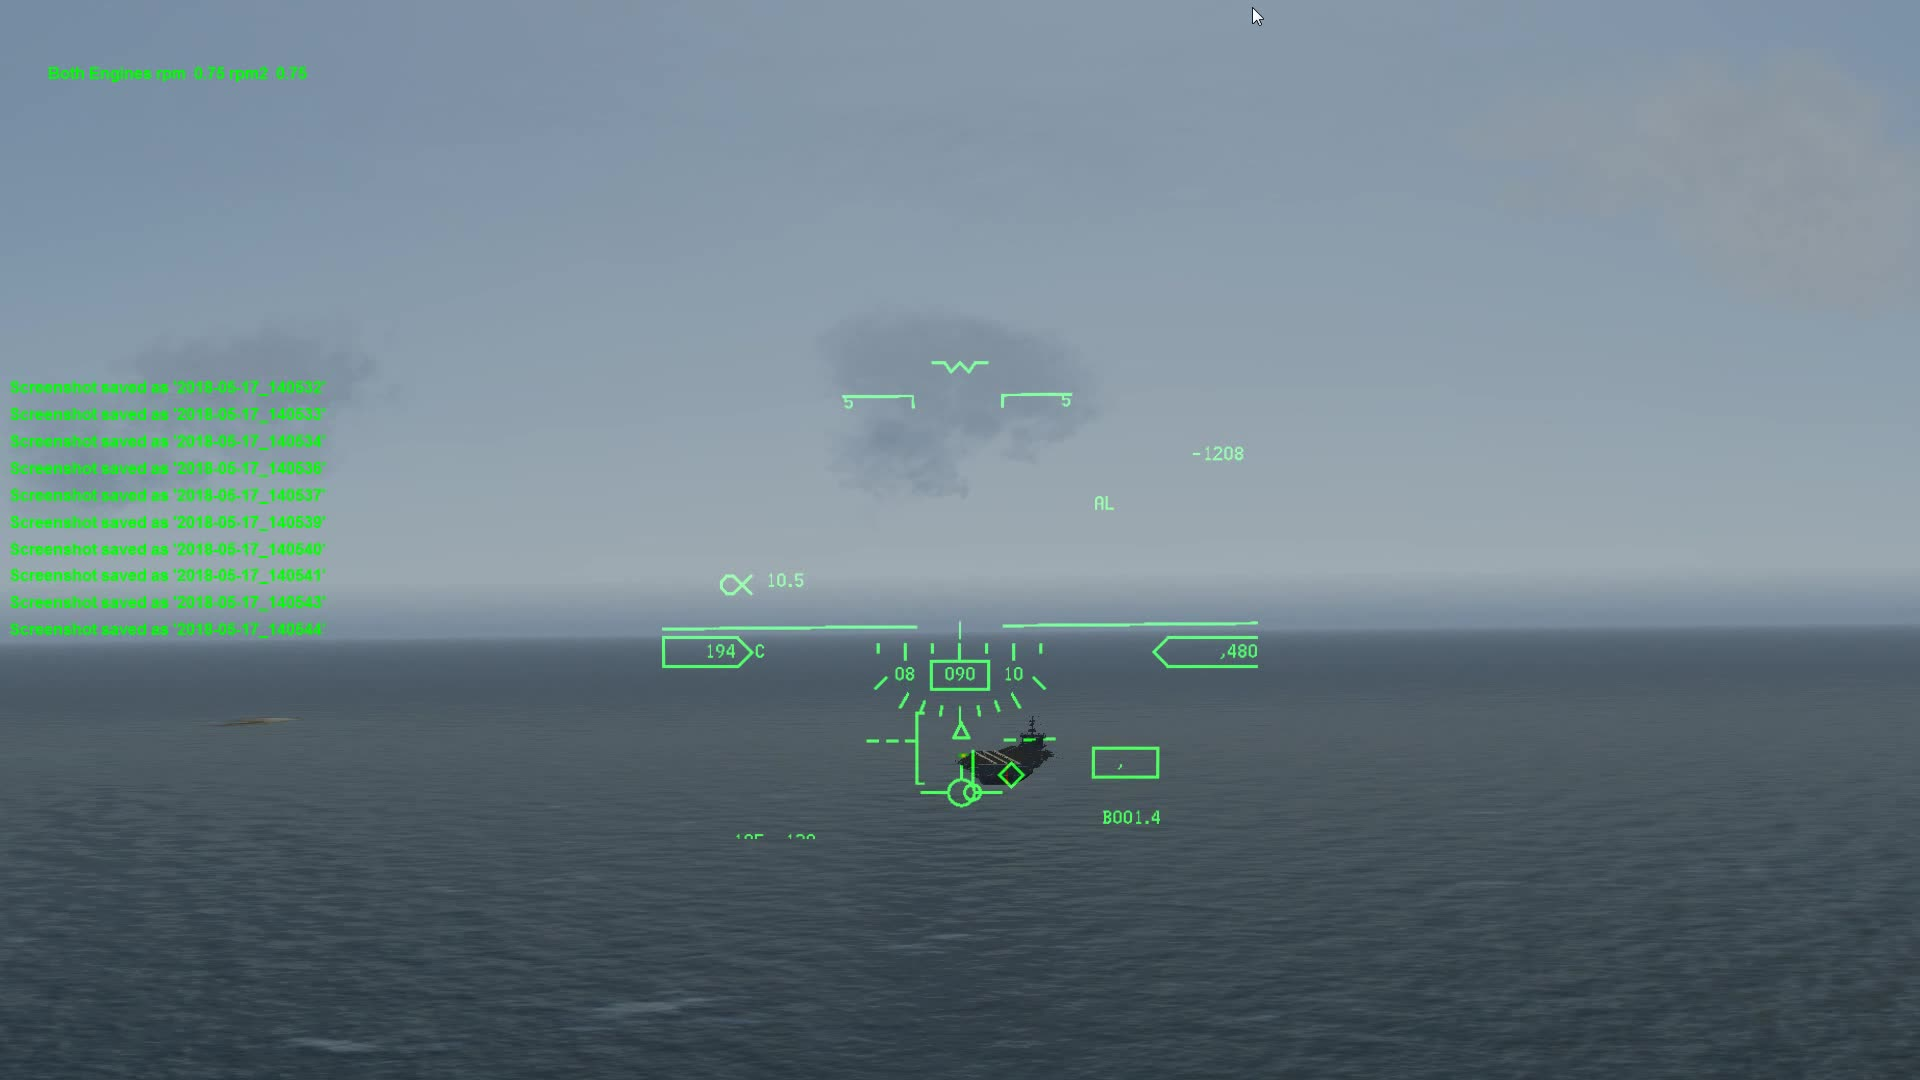speed vector: (915, 769, 1007, 811)
